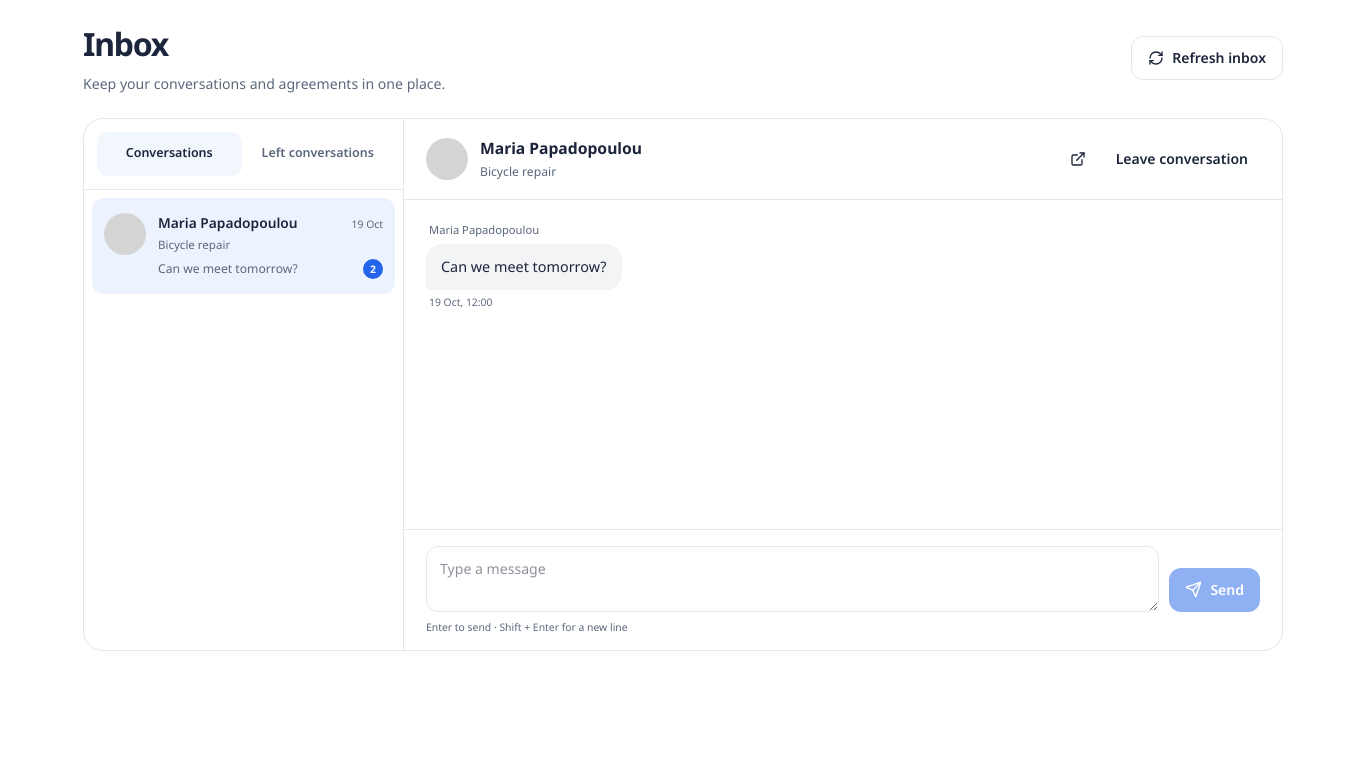
Test: Inbox user journeys › preserves a failed draft and clears it only after a successful retry
Type "Tomorrow works for me." into the text box labelled "message" at {"x": 793, "y": 579}, box left=426, top=546, right=1159, bottom=612
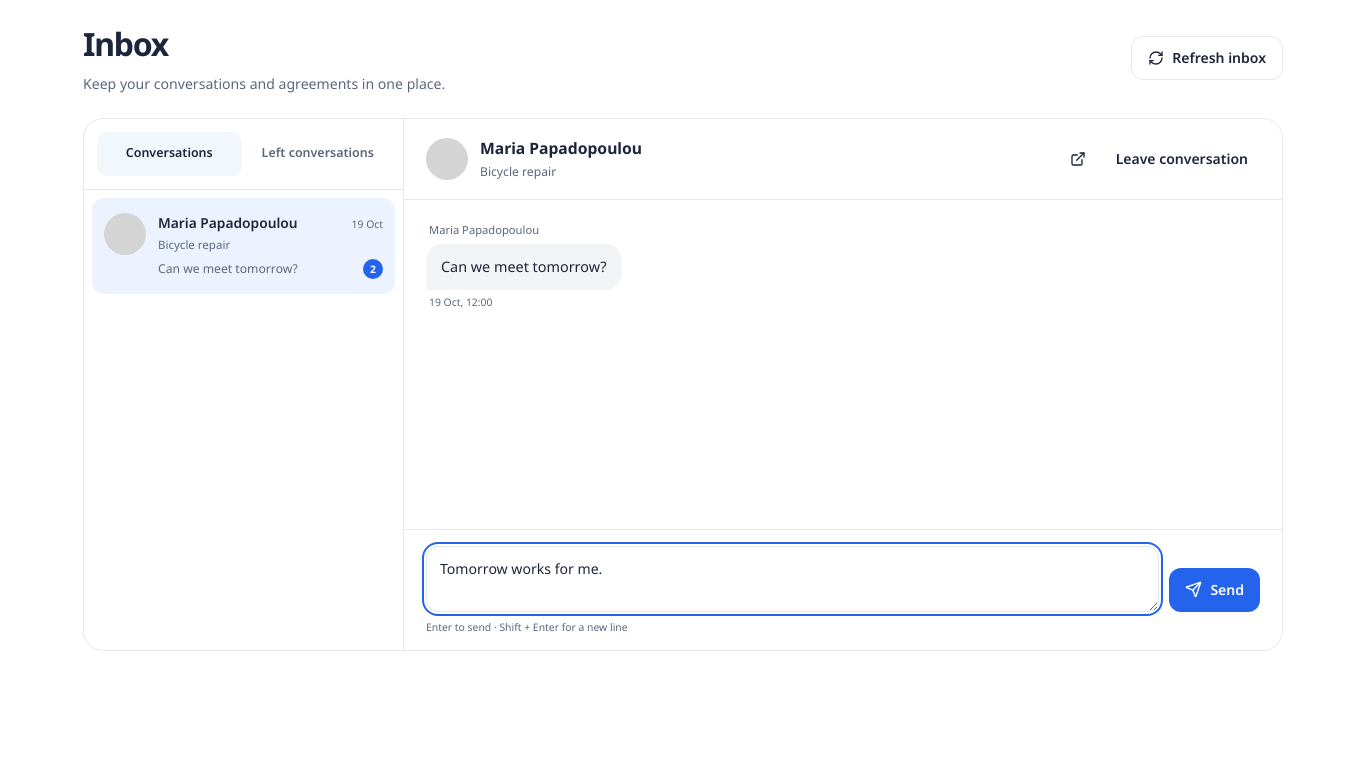
Click the button "Send" at {"x": 1215, "y": 590}, box left=1169, top=568, right=1260, bottom=612
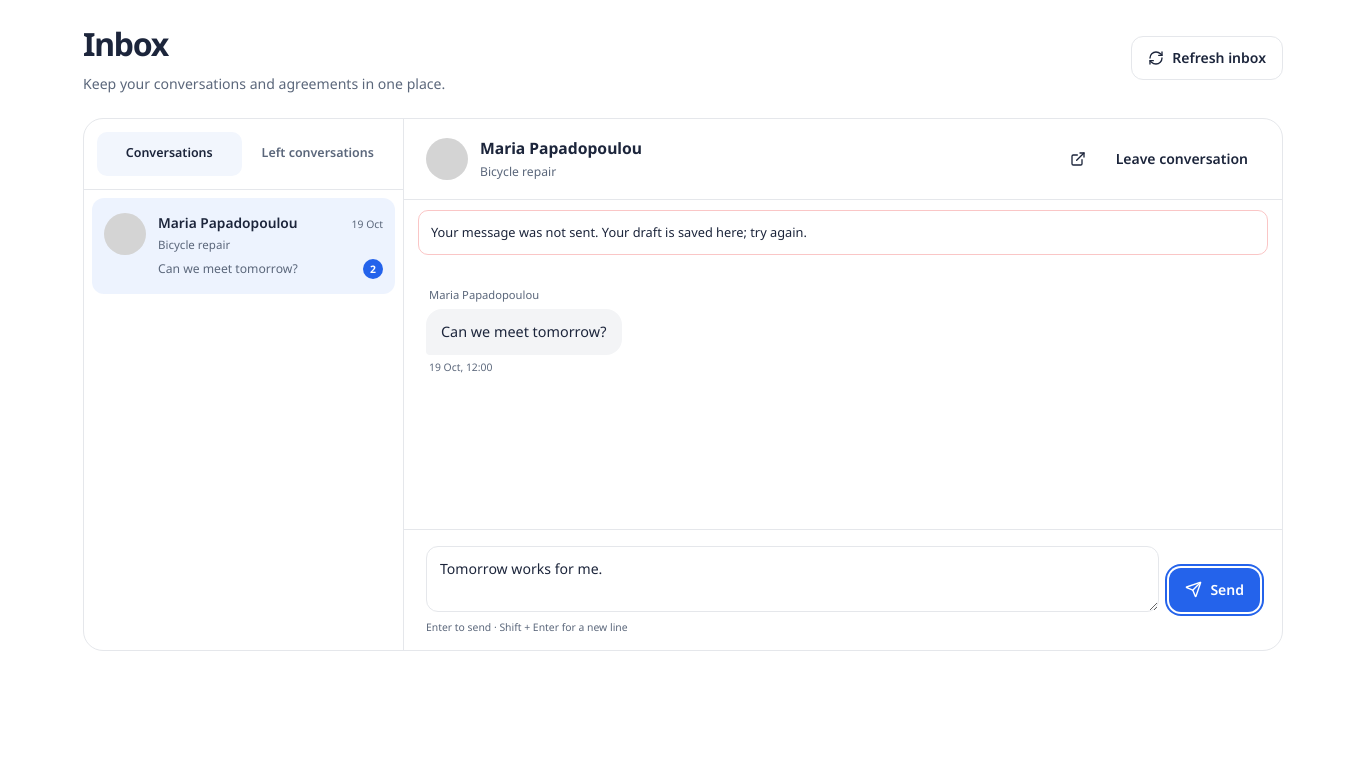
Check: the message shows "Your message was not sent", box left=431, top=223, right=807, bottom=241
Click the button "Send" at {"x": 1215, "y": 590}, box left=1169, top=568, right=1260, bottom=612
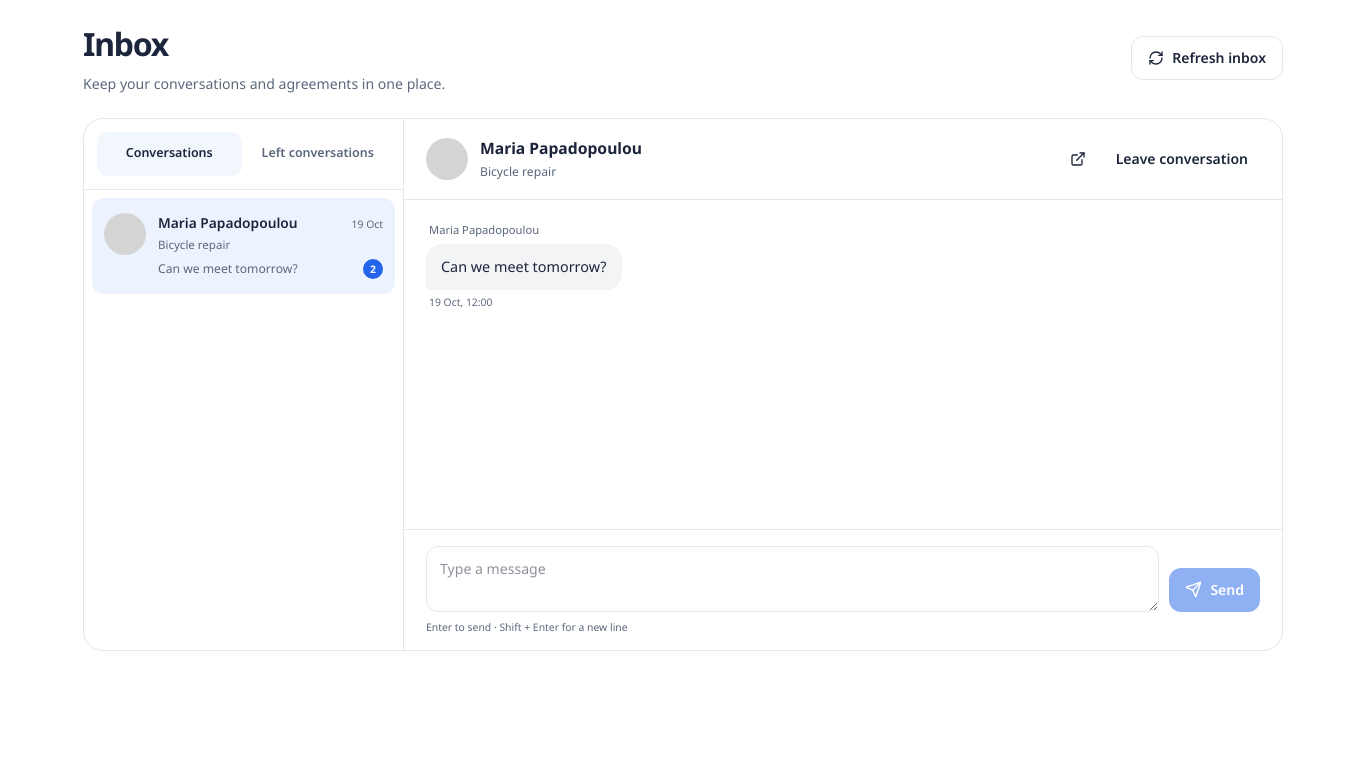
Check: the text box labelled "message" is empty, box left=426, top=546, right=1159, bottom=612
Check: the message "Your message was not sent. Your draft is saved here; try again." is gone
